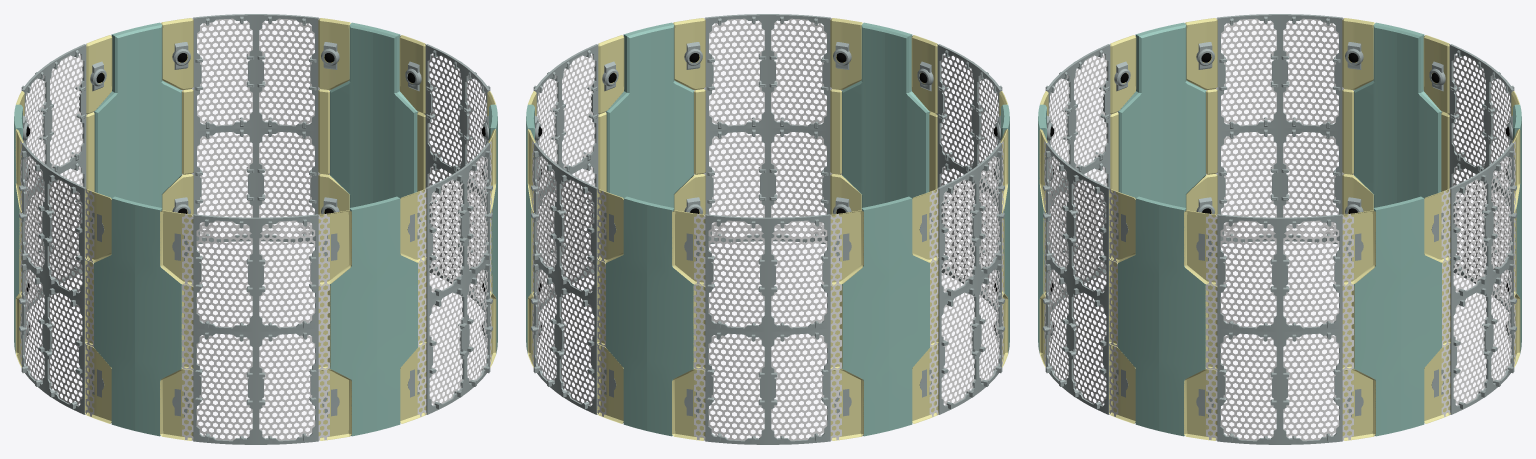
File: PanelCircle_Test2.fbx
3 renders of one model, left to right at view 1: azimuth 30°, elevation 25°; view 2: azimuth 150°, elevation 25°; view 3: azimuth 270°, elevation 25°, orthographic.
Parts seen in each view (by area): view 1: PanelCircle_1; view 2: PanelCircle_1; view 3: PanelCircle_1.
Part boxes in pixels (x1=…): PanelCircle_1: x1=14, y1=14, x2=497, y2=444; PanelCircle_1: x1=526, y1=14, x2=1009, y2=444; PanelCircle_1: x1=1038, y1=14, x2=1521, y2=444.
Size of the model in its own units: 197 by 100 by 194.
